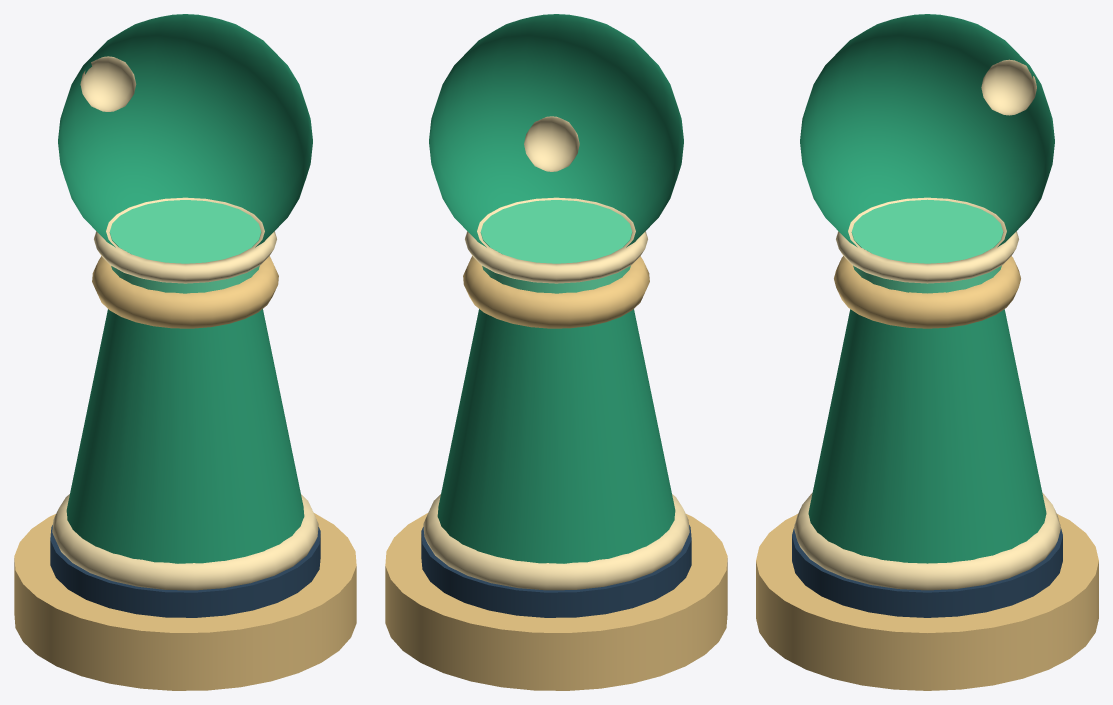
The model's file is token_emerald.glb.
The picture shows the model from 3 angles, left to right: view 1: azimuth 30°, elevation 25°; view 2: azimuth 150°, elevation 25°; view 3: azimuth 270°, elevation 25°; orthographic projection.
Parts seen in each view (by area): view 1: emerald, gold, gold_light, emerald_hi, navy; view 2: emerald, gold, gold_light, emerald_hi, navy; view 3: emerald, gold, gold_light, emerald_hi, navy.
Part boxes in pixels (<box>): emerald: <box>58,14,312,563</box>; gold: <box>14,256,356,690</box>; gold_light: <box>52,56,318,590</box>; emerald_hi: <box>109,200,261,293</box>; navy: <box>50,525,320,617</box>; emerald: <box>429,14,683,563</box>; gold: <box>385,256,727,690</box>; gold_light: <box>423,116,689,590</box>; emerald_hi: <box>480,200,632,293</box>; navy: <box>421,525,691,617</box>; emerald: <box>800,14,1054,563</box>; gold: <box>756,256,1098,690</box>; gold_light: <box>794,59,1060,590</box>; emerald_hi: <box>851,199,1003,293</box>; navy: <box>792,528,1062,617</box>.
Bounding box in the file's own units: 0.86 × 1.64 × 0.86.
